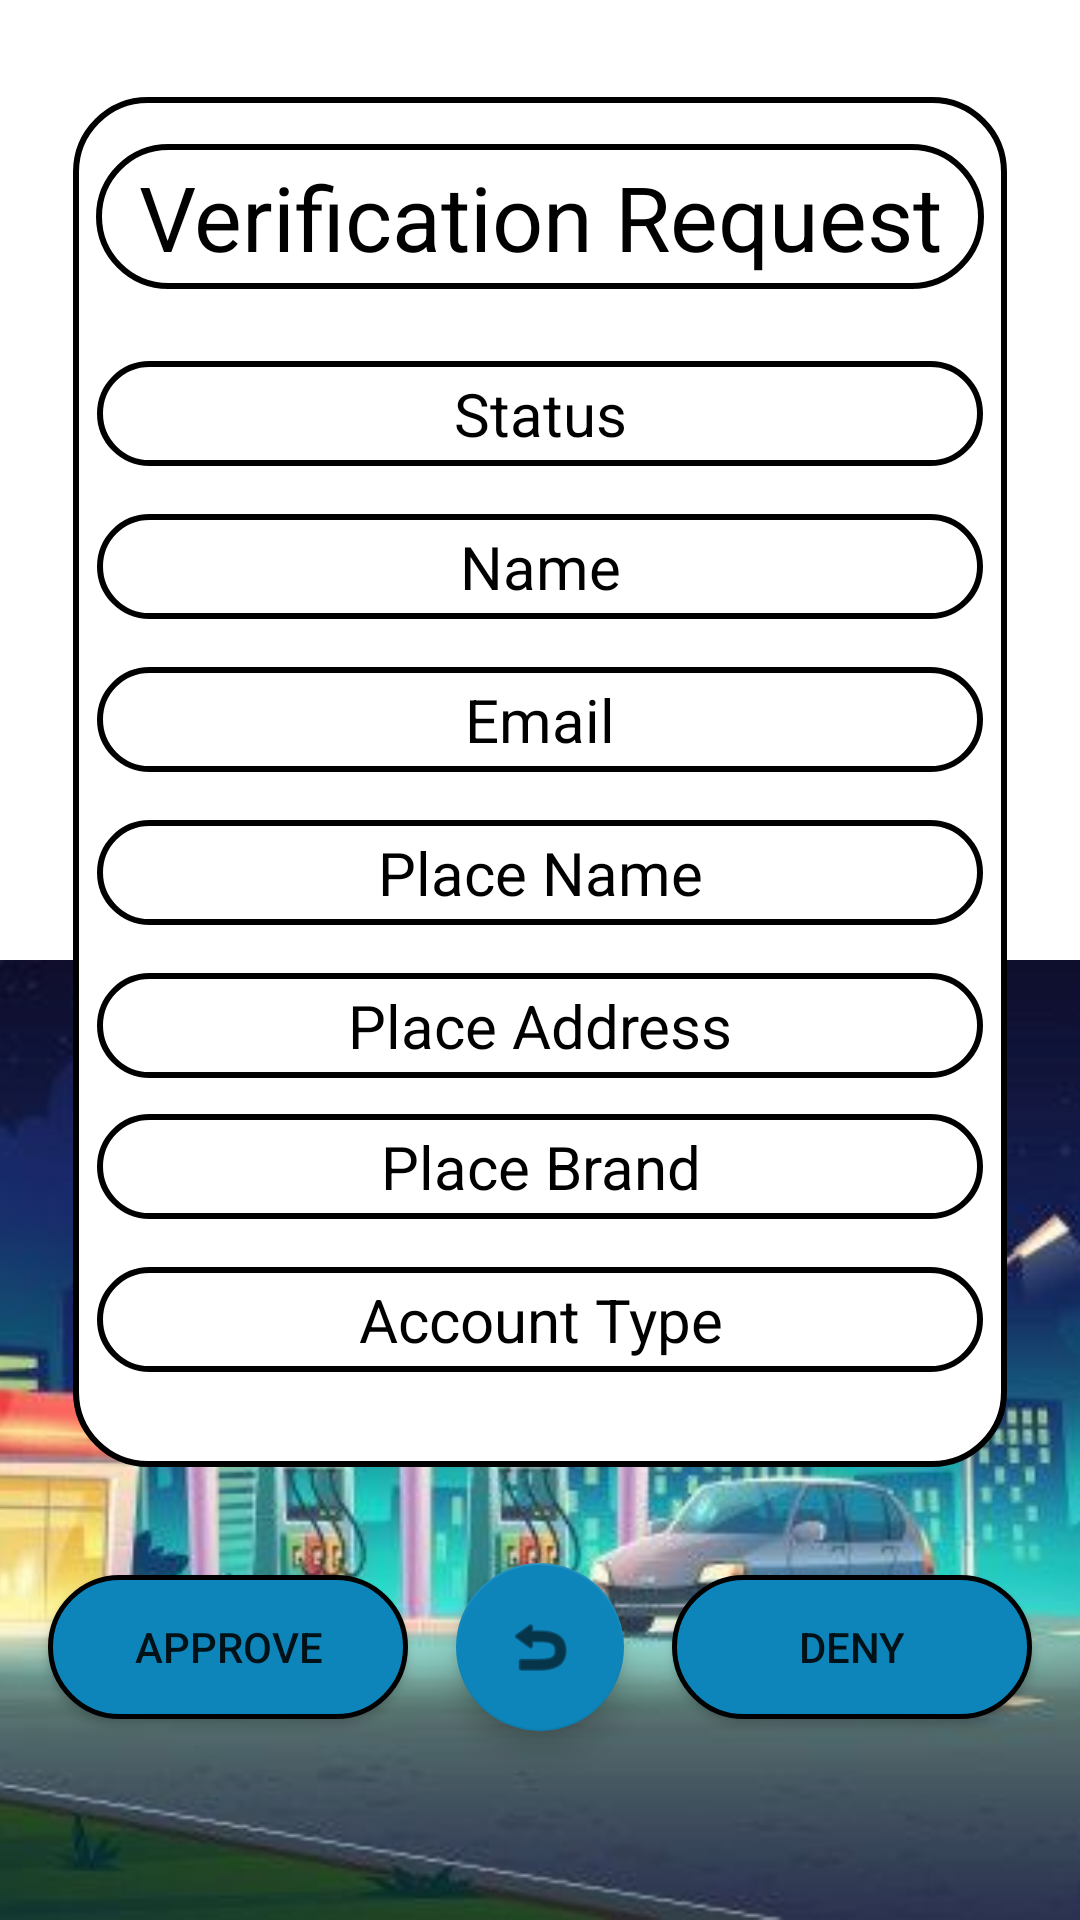

Icon click points for this 1080 x 1920 phone screenshot, format (x,y):
revert: (540,1647)
